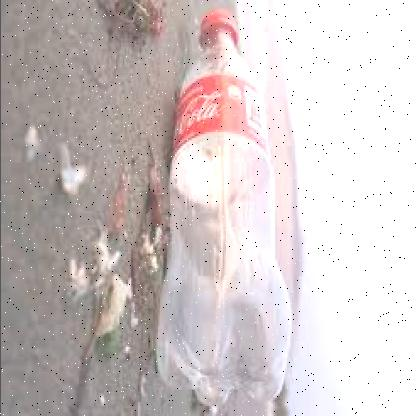Plastic Bottle: (156, 11, 290, 405)
